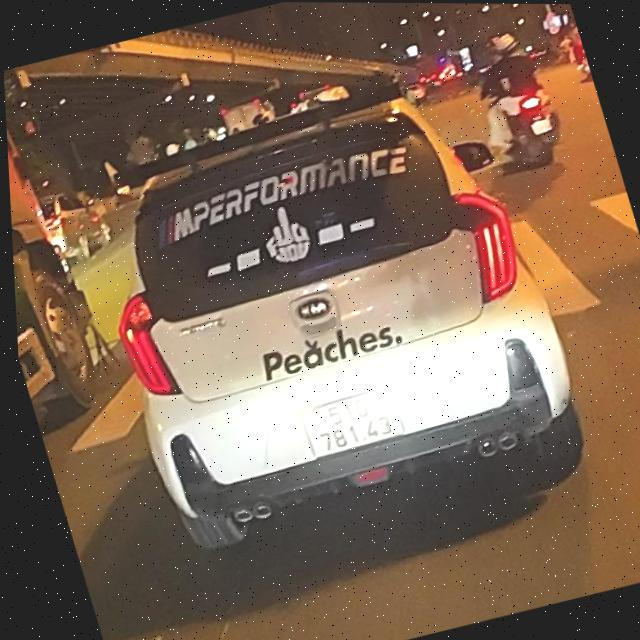car: (60, 57, 617, 578)
motorcycle: (495, 85, 582, 170)
plate: (291, 380, 417, 463)
